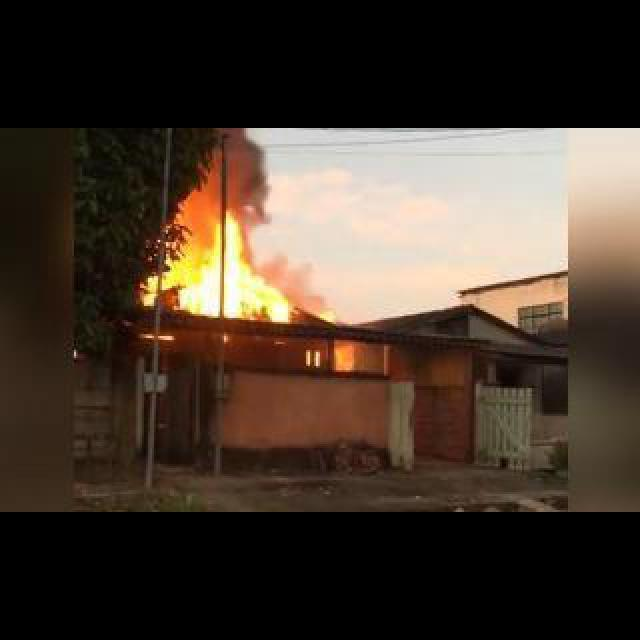Fire: (150, 204, 292, 326)
